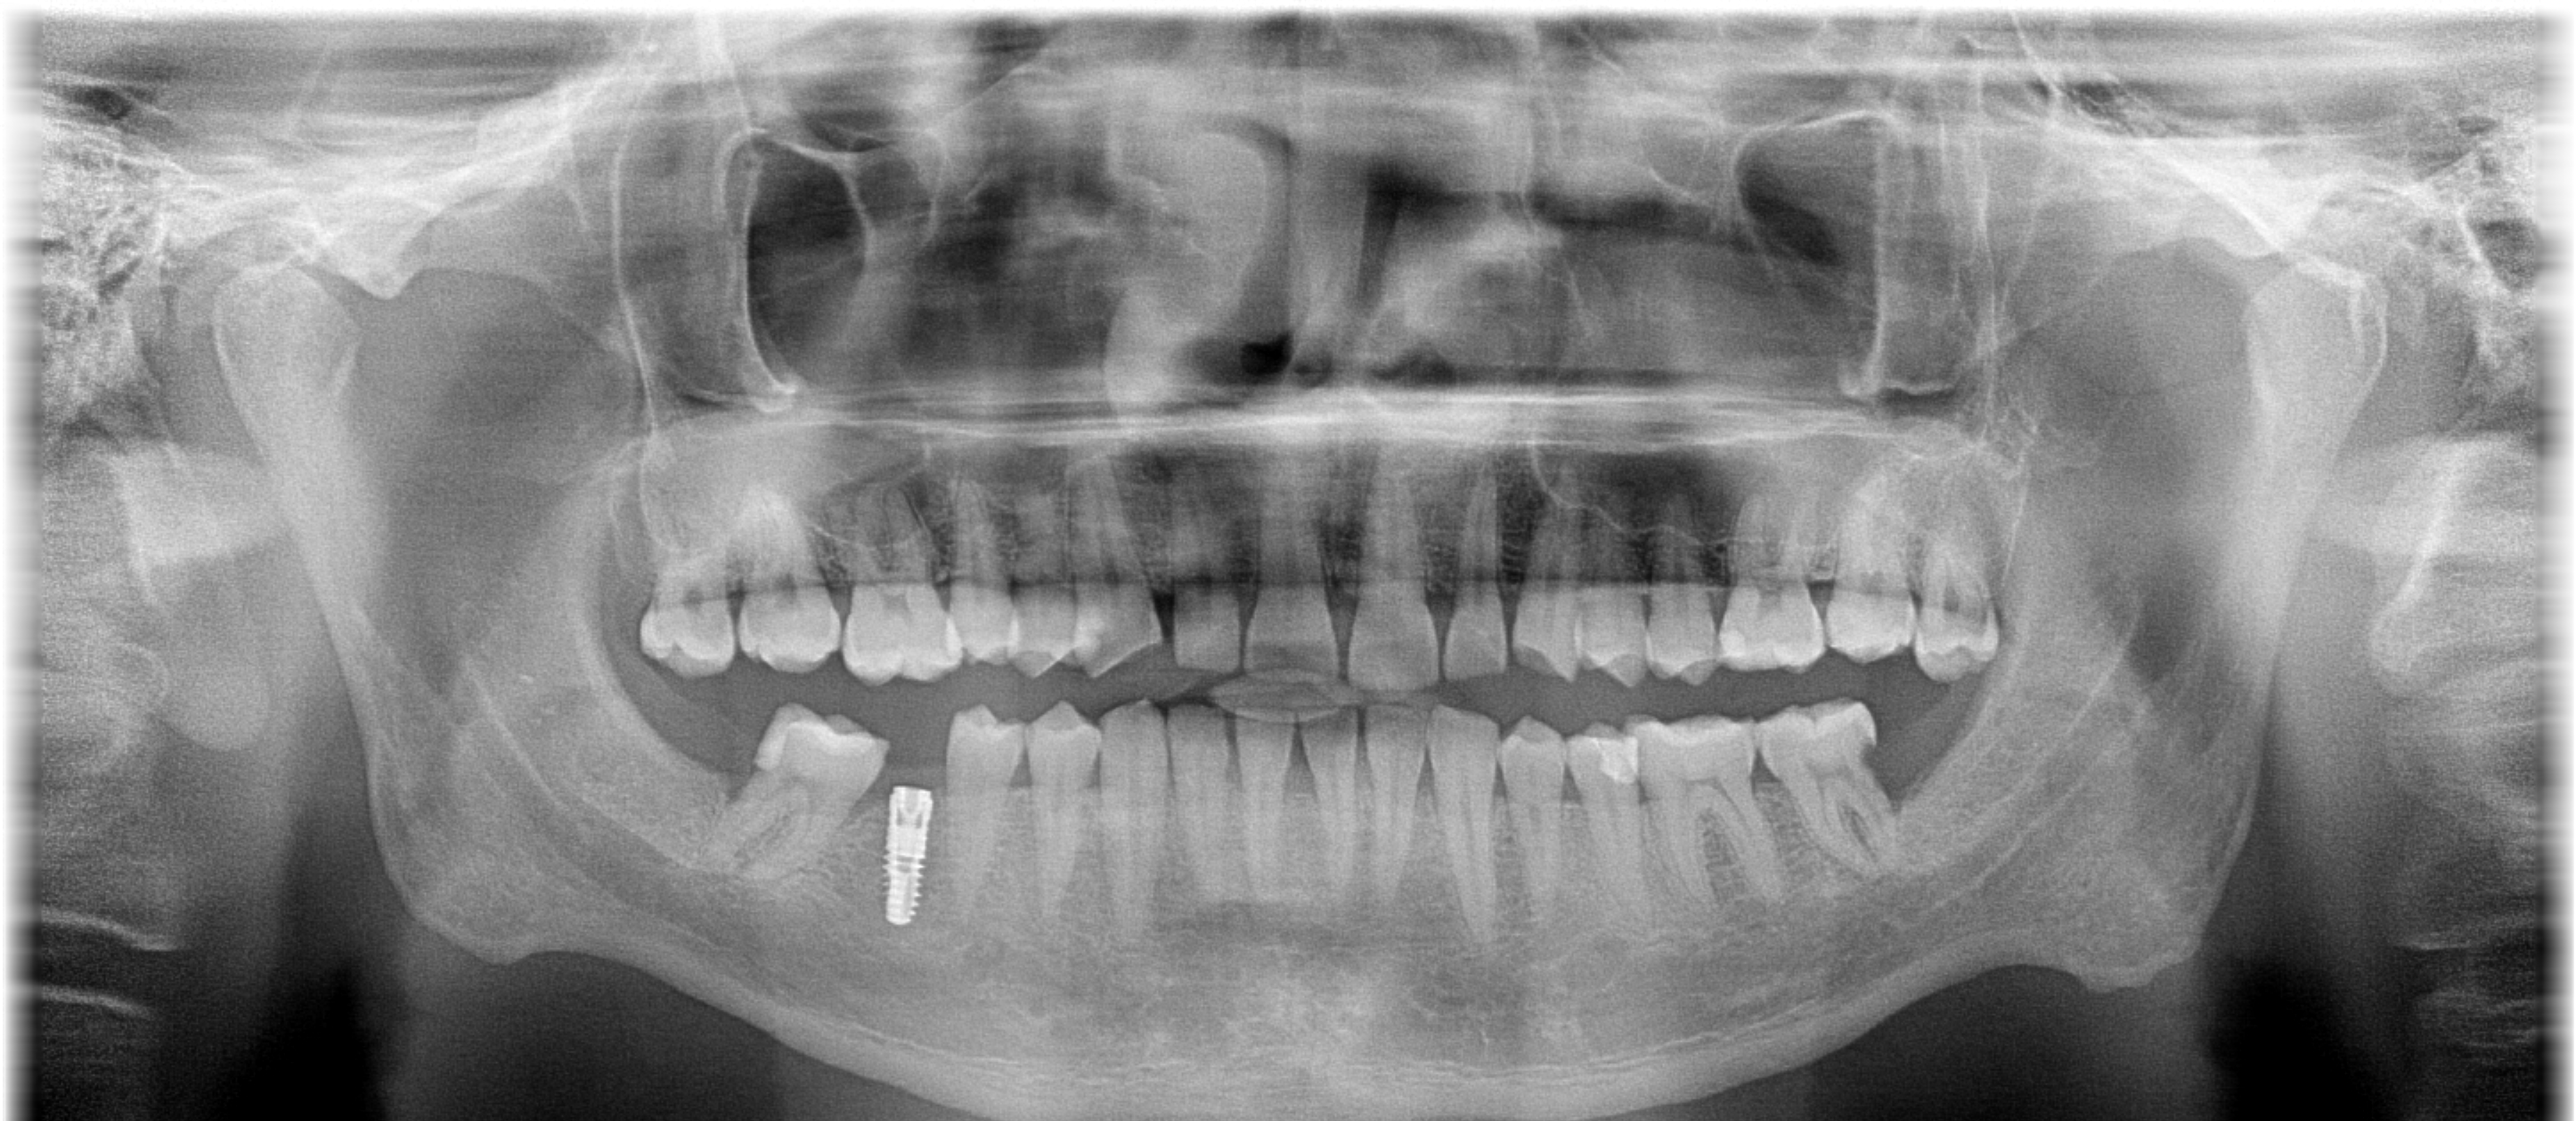cordal: (1893, 471, 2039, 698), (608, 487, 754, 712)
diastema: (1318, 481, 1365, 698), (1135, 494, 1189, 684)
zona_dentula: (851, 693, 973, 962)
